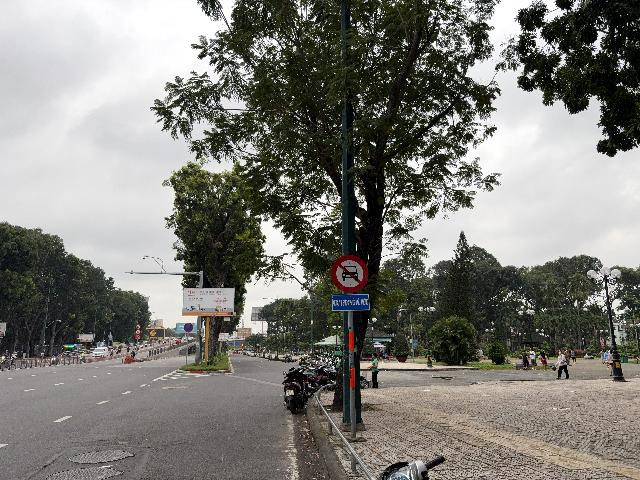cam-o-to: (331, 255, 369, 293)
